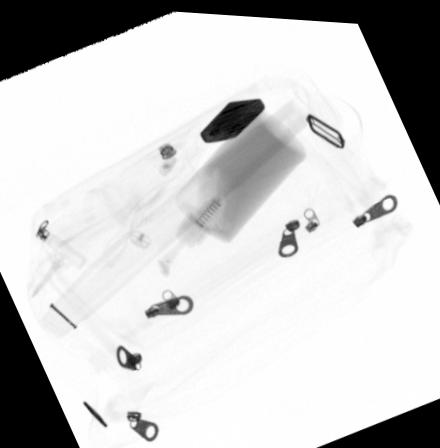Lighter: (198, 93, 265, 140)
